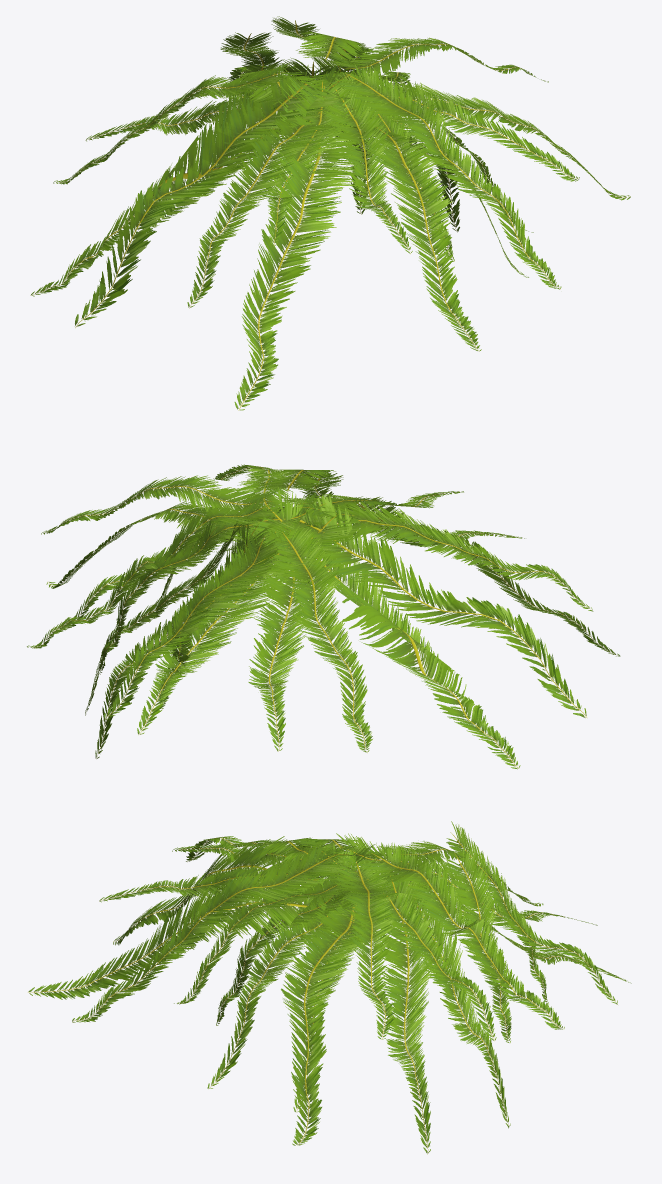
Rendered from Ferns.fbx.
The picture shows the model from 3 angles, top to bottom: view 1: azimuth 30°, elevation 25°; view 2: azimuth 150°, elevation 25°; view 3: azimuth 270°, elevation 25°; orthographic projection. The views are drawn at different scales.
Visible parts, largest first — view 1: Ferns; view 2: Ferns; view 3: Ferns.
Boxes of the visible parts, x1=… form: Ferns: x1=30, y1=16, x2=630, y2=410; Ferns: x1=27, y1=464, x2=620, y2=769; Ferns: x1=28, y1=821, x2=631, y2=1154.
Bounding box in the file's own units: 223 × 91.64 × 219.
